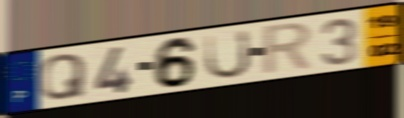3: (320, 16, 358, 67)
4: (92, 44, 136, 96)
6: (152, 35, 201, 90)
Q: (38, 52, 88, 103)
R: (260, 19, 316, 78)
U: (203, 27, 253, 82)
